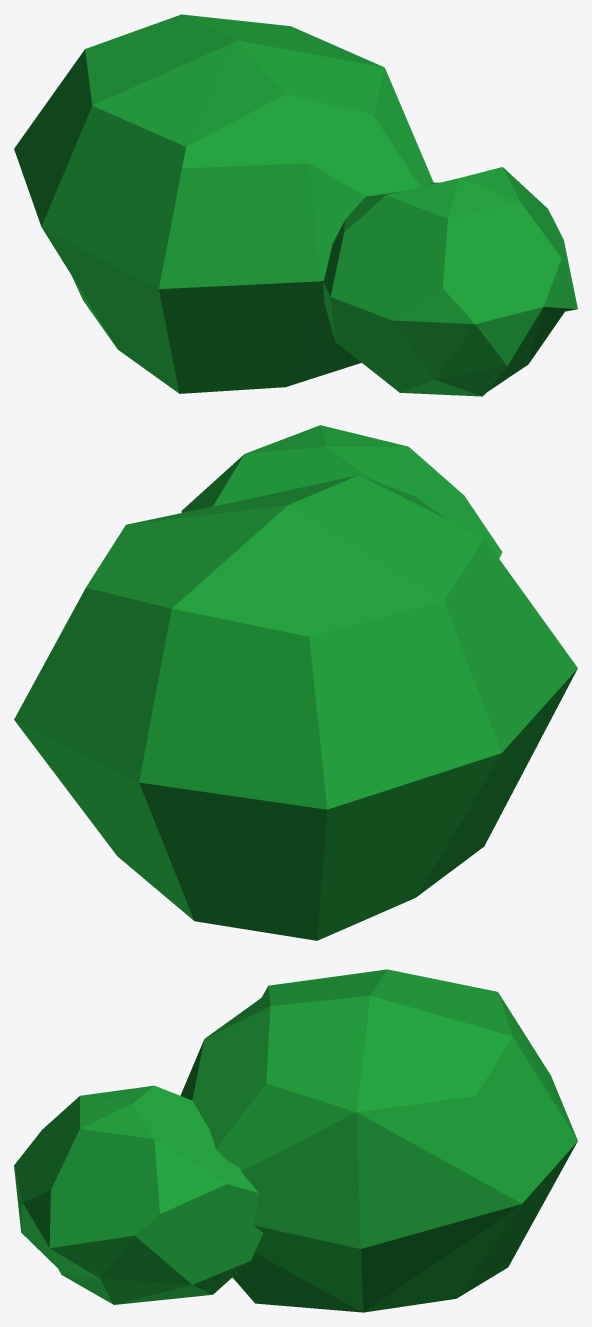
File: BushB.fbx
3 renders of one model, top to bottom at view 1: azimuth 30°, elevation 25°; view 2: azimuth 150°, elevation 25°; view 3: azimuth 270°, elevation 25°, orthographic. The views are drawn at different scales.
Visible parts, largest first — view 1: Icosphere.003; view 2: Icosphere.003; view 3: Icosphere.003.
Part boxes in pixels (x1,y1,x2,y2): Icosphere.003: (14,14,577,396); Icosphere.003: (14,425,577,940); Icosphere.003: (14,969,577,1312).
Size of the model in its own units: 179 by 129 by 240.
